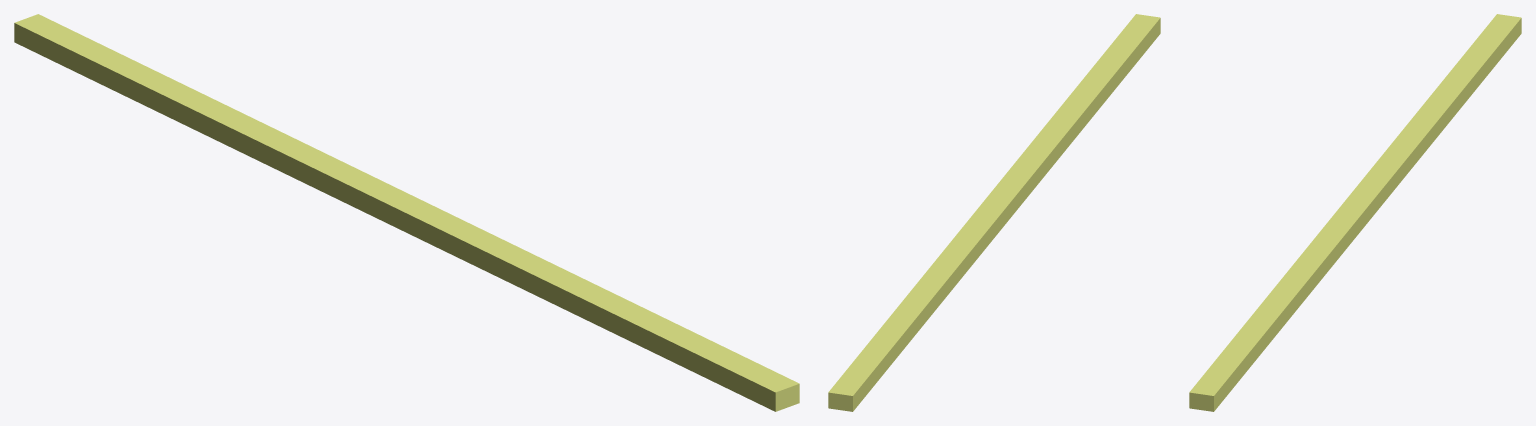
The model's file is walk.gltf.
The picture shows the model from 3 angles, left to right: view 1: azimuth 30°, elevation 25°; view 2: azimuth 150°, elevation 25°; view 3: azimuth 330°, elevation 25°; orthographic projection. The views are drawn at different scales.
Parts seen in each view (by area): view 1: 立方体.022; view 2: 立方体.022; view 3: 立方体.022.
Part boxes in pixels (x1,y1,x2,y2): 立方体.022: [14, 14, 799, 411]; 立方体.022: [828, 14, 1160, 411]; 立方体.022: [1189, 14, 1521, 411].
Bounding box in the file's own units: 33.92 × 2.87 × 153.
